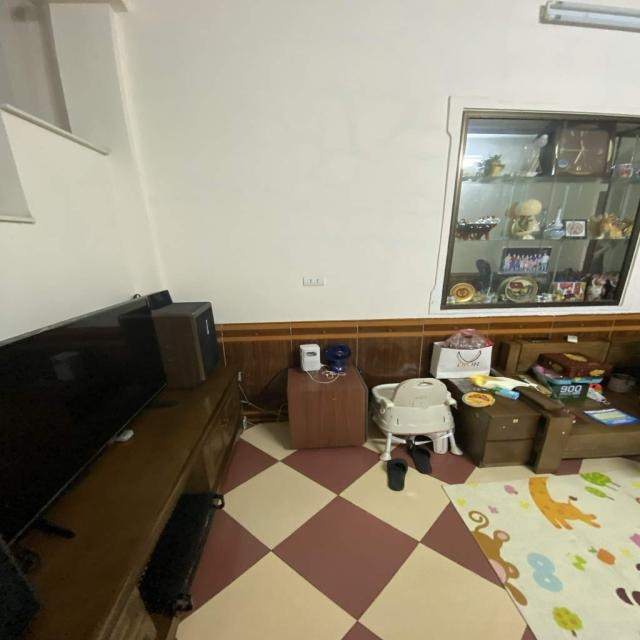outlet: (302, 276, 325, 286)
